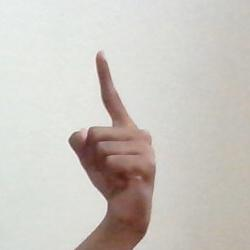I: (16, 36, 220, 250)
